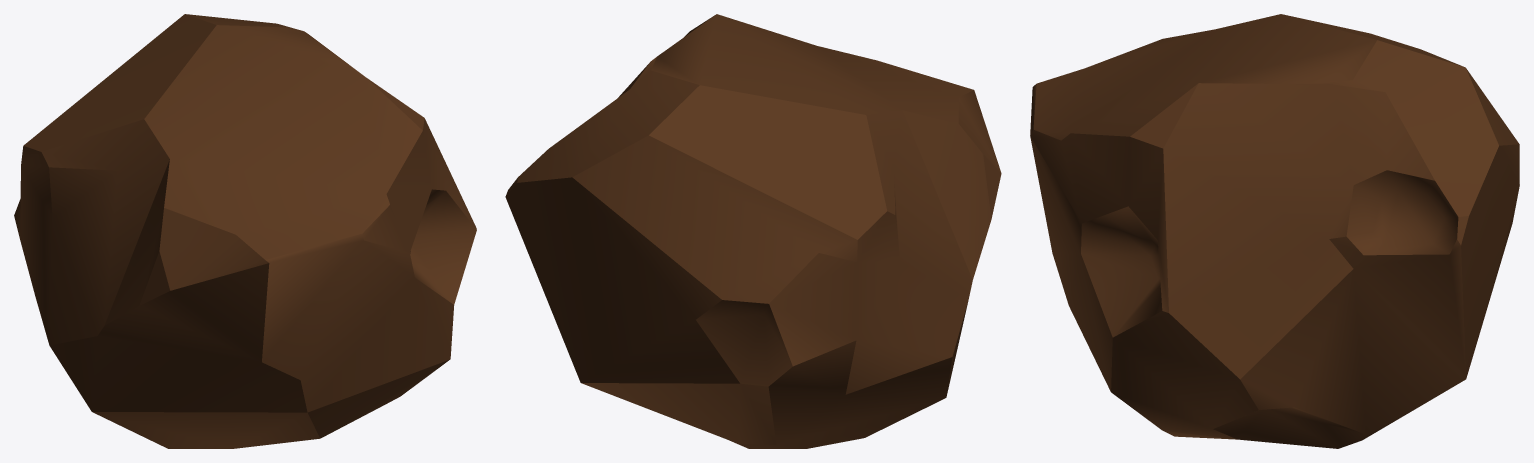
Rendered from asteroid.fbx.
3 views of the same model, side by side, from view 1: azimuth 30°, elevation 25°; view 2: azimuth 150°, elevation 25°; view 3: azimuth 270°, elevation 25° (orthographic). The views are drawn at different scales.
Visible parts, largest first — view 1: Asteroid_001; view 2: Asteroid_001; view 3: Asteroid_001.
Part boxes in pixels (bbox=[...]): Asteroid_001: bbox=[14, 14, 476, 448]; Asteroid_001: bbox=[505, 14, 1001, 448]; Asteroid_001: bbox=[1030, 14, 1519, 448].
Size of the model in its own units: 14786 by 13165 by 14898.
